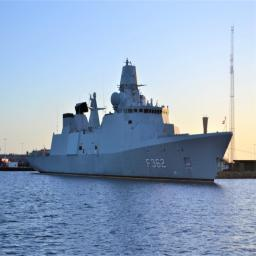Fragata: (25, 55, 237, 190)
